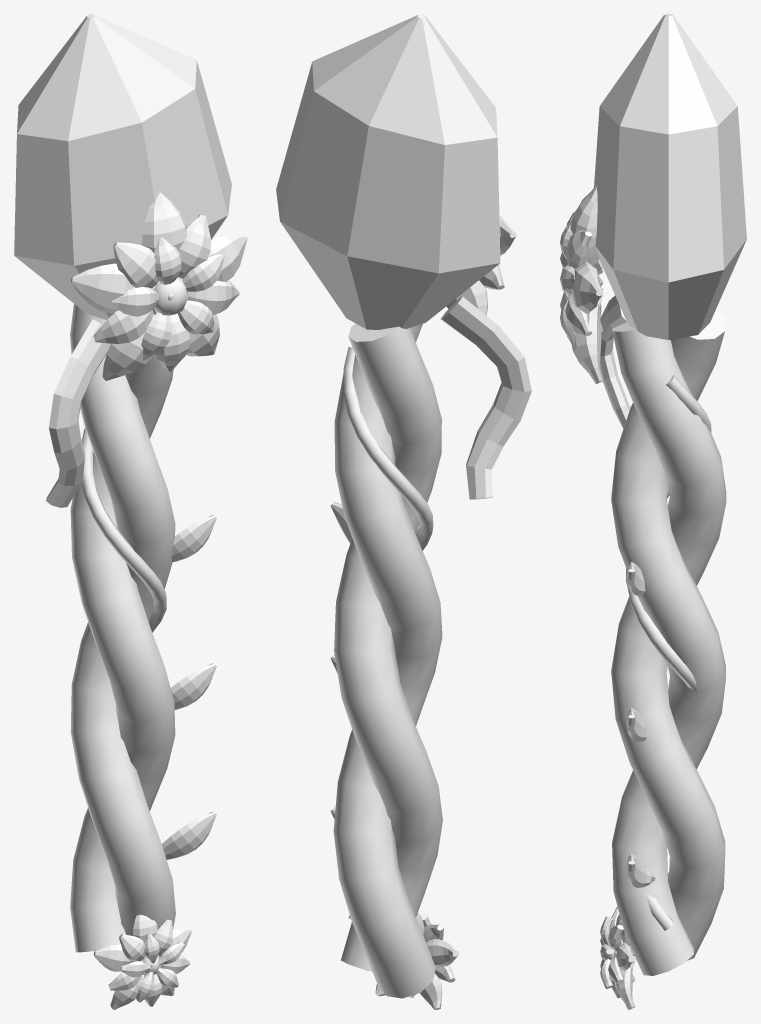
Rendered from shovel.obj.
3 renders of one model, left to right at view 1: azimuth 30°, elevation 25°; view 2: azimuth 150°, elevation 25°; view 3: azimuth 270°, elevation 25°, orthographic. The views are drawn at different scales.
Parts seen in each view (by area): view 1: handle, head, ornaments; view 2: handle, head, ornaments; view 3: handle, head, ornaments.
Part boxes in pixels (x1=…): handle: x1=70, y1=304, x2=216, y2=1009; head: x1=14, y1=14, x2=231, y2=319; ornaments: x1=46, y1=192, x2=247, y2=507; handle: x1=330, y1=323, x2=459, y2=1009; head: x1=276, y1=14, x2=500, y2=329; ornaments: x1=440, y1=215, x2=531, y2=499; handle: x1=600, y1=310, x2=726, y2=1009; head: x1=594, y1=14, x2=746, y2=339; ornaments: x1=560, y1=186, x2=630, y2=428.
Size of the model in its own units: 0.2243 by 0.9649 by 0.1692.
